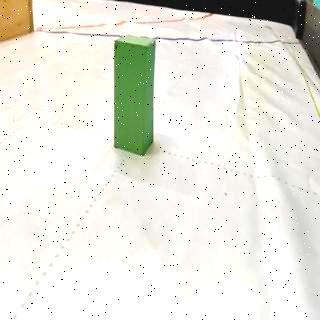greenbox: (112, 33, 156, 155)
